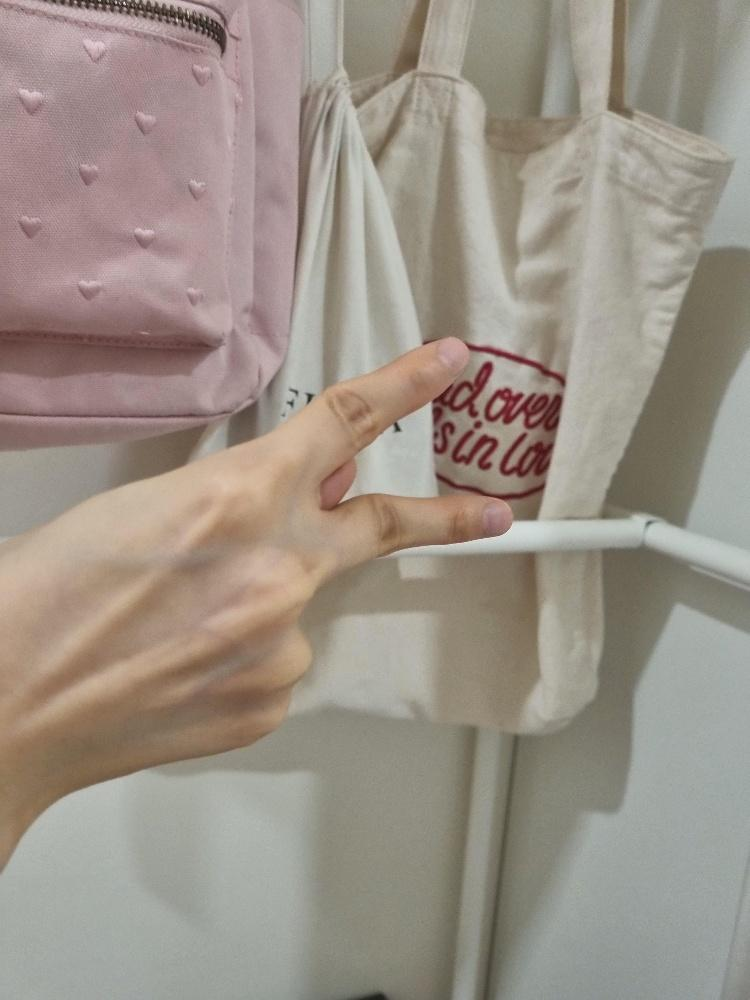k: (40, 335, 513, 774)
